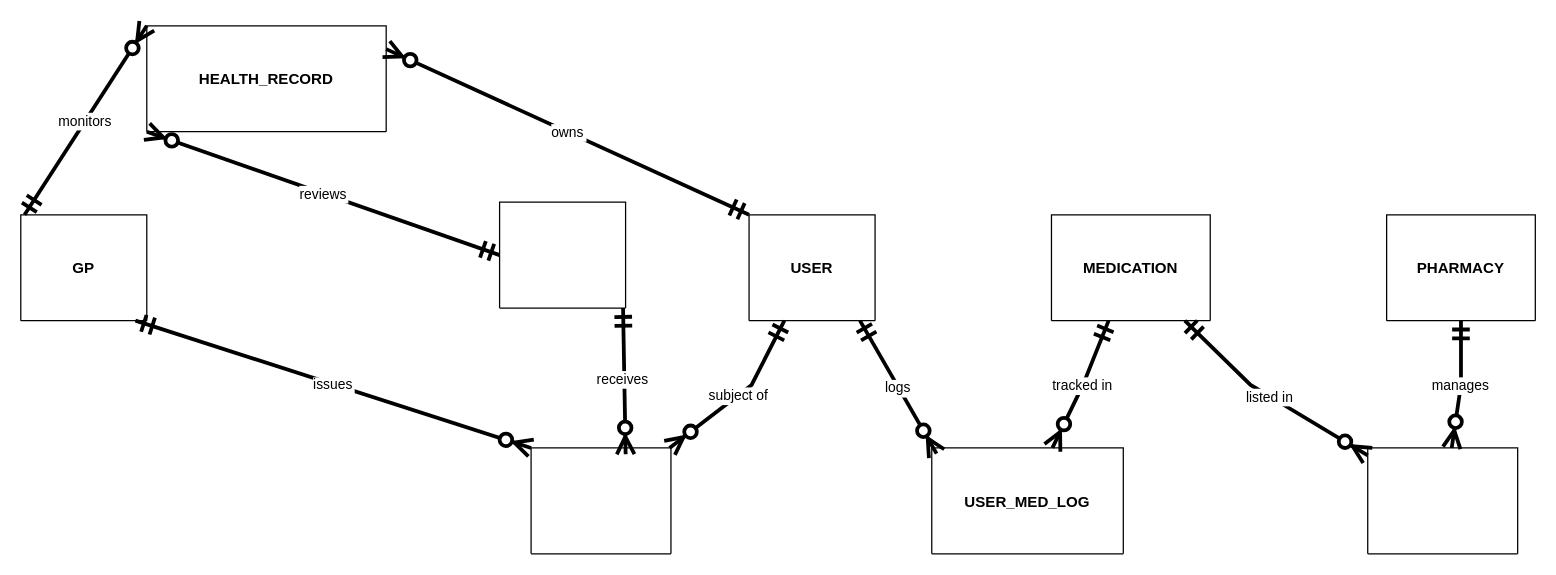
This 1556x575 diagram has some shape labels left out. Here are the shapes that lost their labels. From the top down, the box of each, then its label:
(498, 201, 626, 308): SP
(530, 447, 671, 554): REFERRAL
(1366, 447, 1518, 554): INVENTORY
